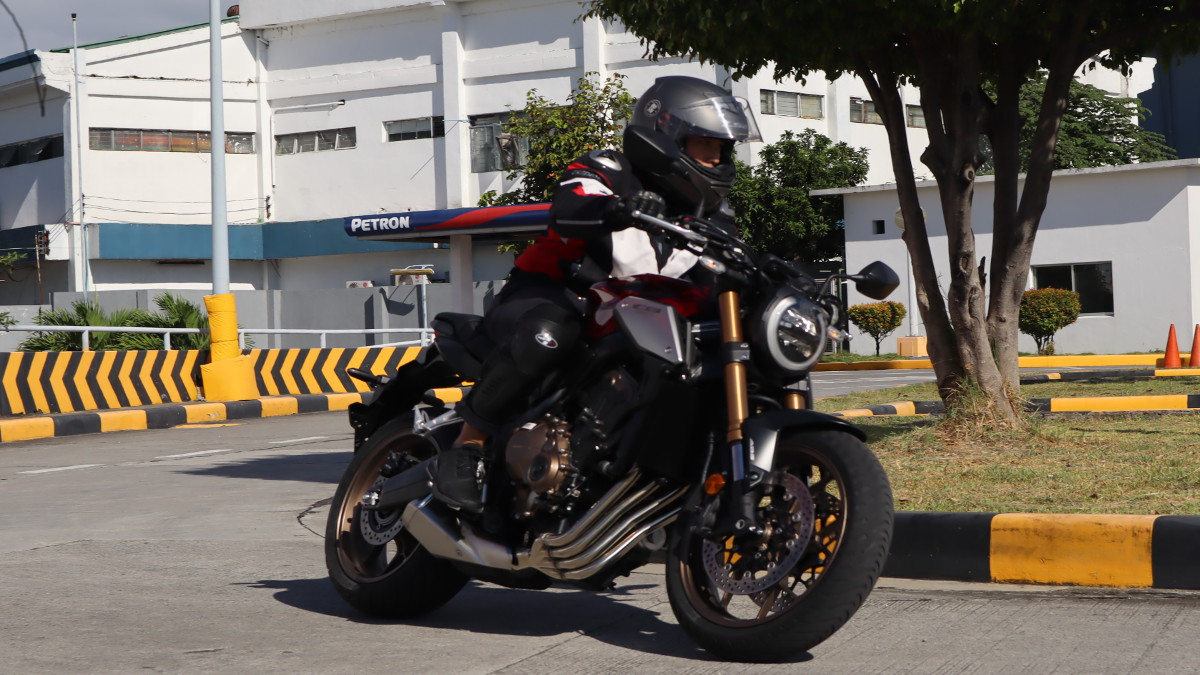with_helmet: (627, 76, 764, 195)
